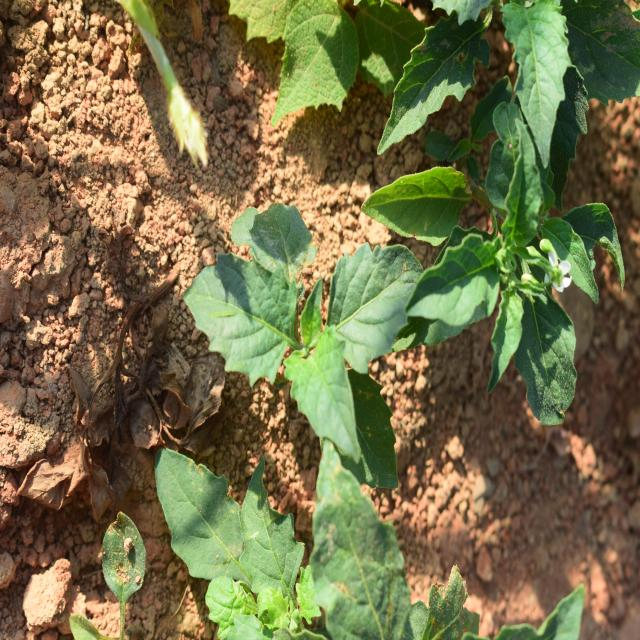Black_nightshade: (194, 222, 428, 488), (411, 110, 614, 416), (158, 468, 415, 628)
